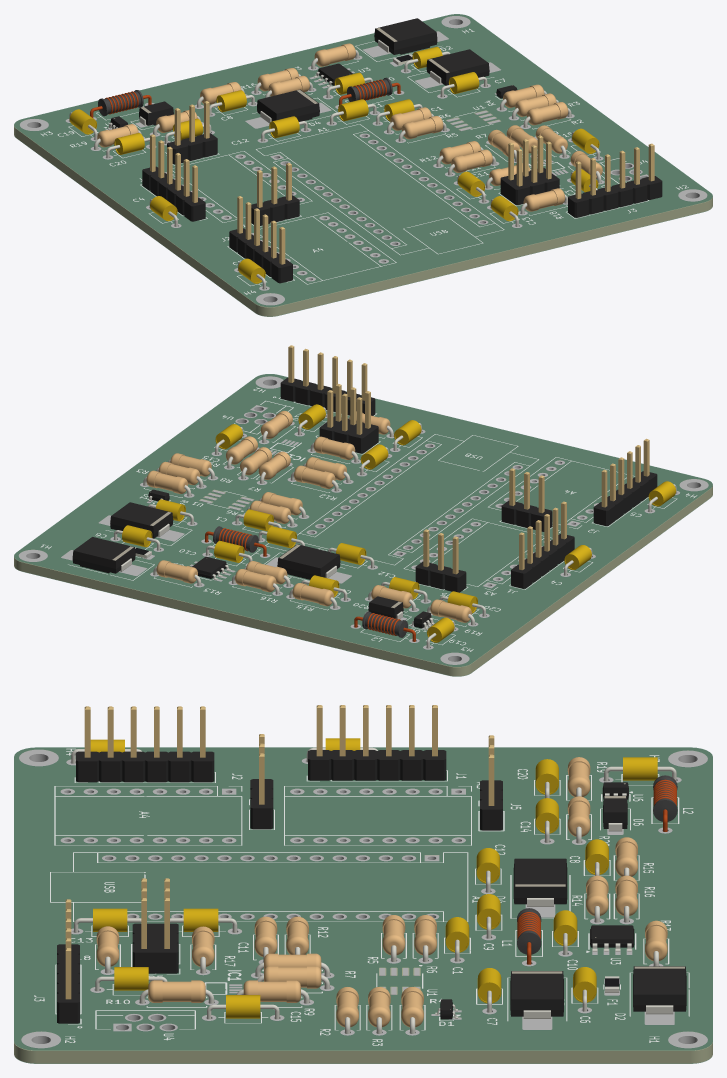
Rendered from board.glb.
3 views of the same model, one above another, from view 1: azimuth 30°, elevation 25°; view 2: azimuth 150°, elevation 25°; view 3: azimuth 270°, elevation 25° (orthographic). The views are drawn at different scales.
Parts seen in each view (by area): view 1: =>[0:1:1:29], =>[0:1:1:31], =>[0:1:1:7] (×3), =>[0:1:1:9] (×14), =>[0:1:1:3] (×14), =>[0:1:1:26], =>[0:1:1:27], =>[0:1:1:11] (×3), =>[0:1:1:13] (×2), =>[0:1:1:15], =>[0:1:1:21] (×2), =>[0:1:1:30] (+2 smaller); view 2: =>[0:1:1:29], =>[0:1:1:31], =>[0:1:1:9] (×18), =>[0:1:1:7] (×3), =>[0:1:1:26], =>[0:1:1:3] (×9), =>[0:1:1:27], =>[0:1:1:11] (×3), =>[0:1:1:13] (×2), =>[0:1:1:15], =>[0:1:1:21] (×2), =>[0:1:1:30] (+2 smaller); view 3: =>[0:1:1:29], =>[0:1:1:31], =>[0:1:1:9] (×19), =>[0:1:1:7] (×3), =>[0:1:1:3] (×14), =>[0:1:1:26], =>[0:1:1:27], =>[0:1:1:11] (×3), =>[0:1:1:13] (×2), =>[0:1:1:15], =>[0:1:1:21] (×2), =>[0:1:1:25] (+2 smaller).
Part boxes in pixels (left/top/right/bottom): =>[0:1:1:29]: left=14, top=14, right=712, bottom=307; =>[0:1:1:31]: left=14, top=15, right=712, bottom=316; =>[0:1:1:7] (×3): left=142, top=134, right=662, bottom=283; =>[0:1:1:9] (×14): left=94, top=43, right=571, bottom=214; =>[0:1:1:3] (×14): left=69, top=46, right=599, bottom=289; =>[0:1:1:26]: left=20, top=16, right=707, bottom=305; =>[0:1:1:27]: left=40, top=28, right=688, bottom=294; =>[0:1:1:11] (×3): left=257, top=18, right=489, bottom=123; =>[0:1:1:13] (×2): left=167, top=101, right=299, bottom=225; =>[0:1:1:15]: left=500, top=135, right=559, bottom=205; =>[0:1:1:21] (×2): left=90, top=77, right=400, bottom=117; =>[0:1:1:30]: left=14, top=136, right=712, bottom=316; =>[0:1:1:29]: left=14, top=374, right=712, bottom=666; =>[0:1:1:31]: left=14, top=375, right=712, bottom=676; =>[0:1:1:9] (×18): left=143, top=410, right=474, bottom=625; =>[0:1:1:7] (×3): left=280, top=345, right=657, bottom=588; =>[0:1:1:26]: left=18, top=376, right=708, bottom=664; =>[0:1:1:3] (×9): left=114, top=404, right=676, bottom=568; =>[0:1:1:27]: left=40, top=387, right=697, bottom=651; =>[0:1:1:11] (×3): left=72, top=502, right=340, bottom=579; =>[0:1:1:13] (×2): left=415, top=468, right=552, bottom=592; =>[0:1:1:15]: left=319, top=384, right=378, bottom=453; =>[0:1:1:21] (×2): left=205, top=526, right=415, bottom=641; =>[0:1:1:30]: left=15, top=496, right=712, bottom=676; =>[0:1:1:29]: left=14, top=747, right=712, bottom=1050; =>[0:1:1:31]: left=14, top=748, right=712, bottom=1063; =>[0:1:1:9] (×19): left=96, top=757, right=667, bottom=1033; =>[0:1:1:7] (×3): left=57, top=705, right=446, bottom=1023; =>[0:1:1:3] (×14): left=74, top=757, right=676, bottom=1019; =>[0:1:1:26]: left=19, top=749, right=707, bottom=1048; =>[0:1:1:27]: left=34, top=748, right=693, bottom=1045; =>[0:1:1:11] (×3): left=510, top=858, right=686, bottom=1018; =>[0:1:1:13] (×2): left=250, top=734, right=502, bottom=830; =>[0:1:1:15]: left=132, top=878, right=178, bottom=973; =>[0:1:1:21] (×2): left=517, top=775, right=677, bottom=964; =>[0:1:1:25]: left=590, top=925, right=634, bottom=951.
Bounding box in the file's own units: 0.0791 × 0.0115 × 0.077.
